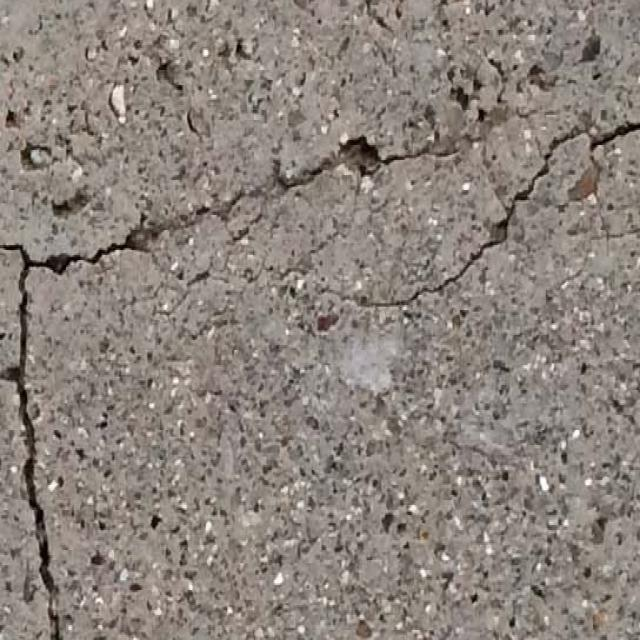Diagonal: (357, 115, 640, 321)
Transverse: (314, 123, 458, 186)
objects: (10, 135, 290, 640)
